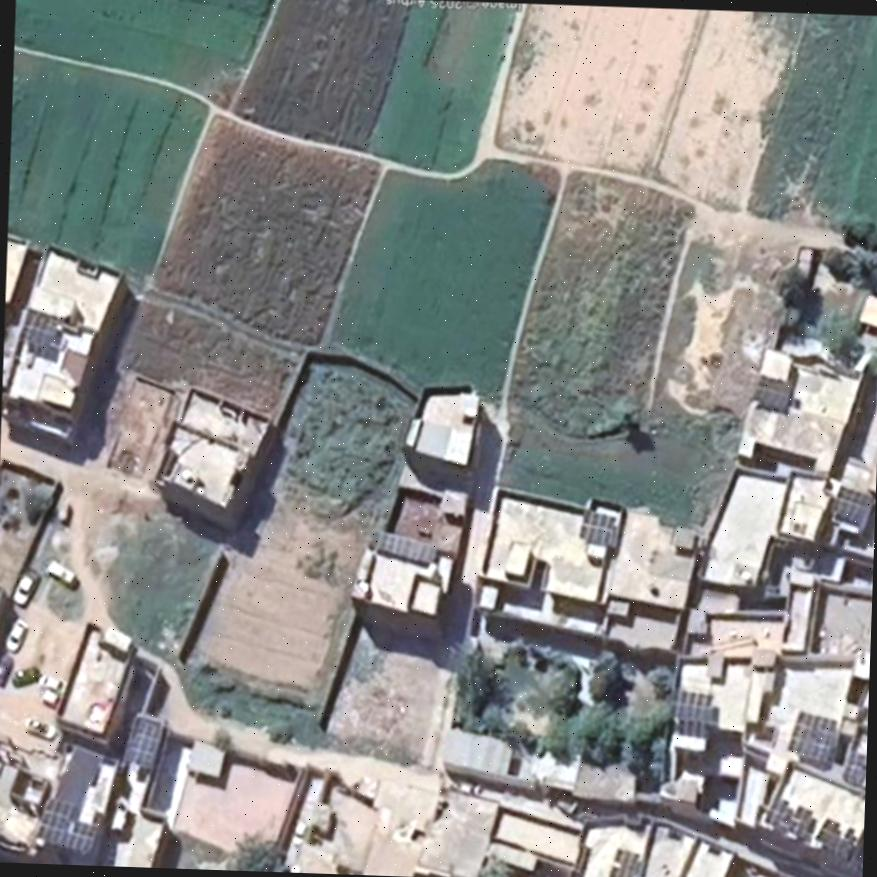Solarpanel: (36, 800, 100, 853), (790, 712, 838, 762), (368, 531, 440, 563), (125, 716, 164, 768), (832, 487, 873, 524), (748, 374, 792, 407), (20, 309, 58, 347), (672, 694, 716, 725), (581, 510, 616, 545)
